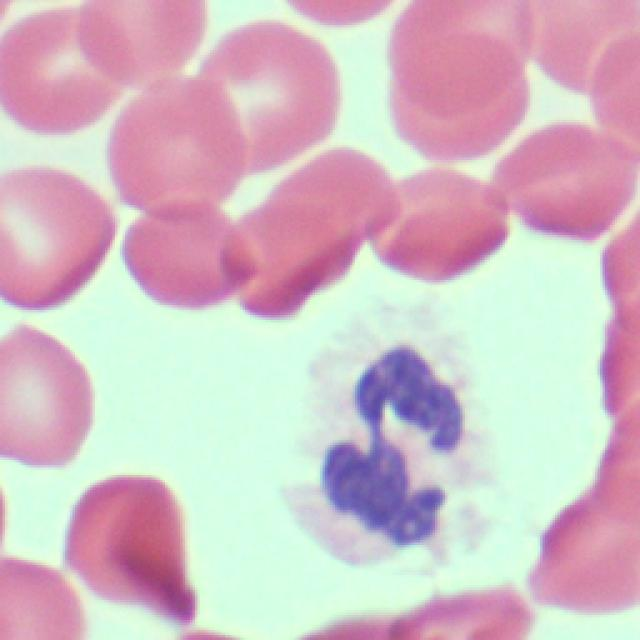RBC: (202, 20, 342, 171), (112, 77, 243, 216), (488, 120, 638, 240), (388, 32, 525, 163), (0, 168, 115, 314), (0, 5, 130, 134), (72, 478, 194, 614), (385, 0, 534, 111), (370, 169, 506, 281), (123, 203, 259, 312), (0, 326, 97, 474), (528, 492, 640, 611), (222, 204, 335, 316), (252, 174, 366, 277), (520, 0, 639, 95), (79, 0, 207, 86), (298, 149, 402, 239), (392, 586, 533, 640), (1, 558, 81, 640), (583, 417, 640, 522), (594, 35, 640, 155), (600, 211, 640, 333), (602, 314, 640, 416), (287, 0, 393, 26)
WBC: (284, 294, 499, 571)
